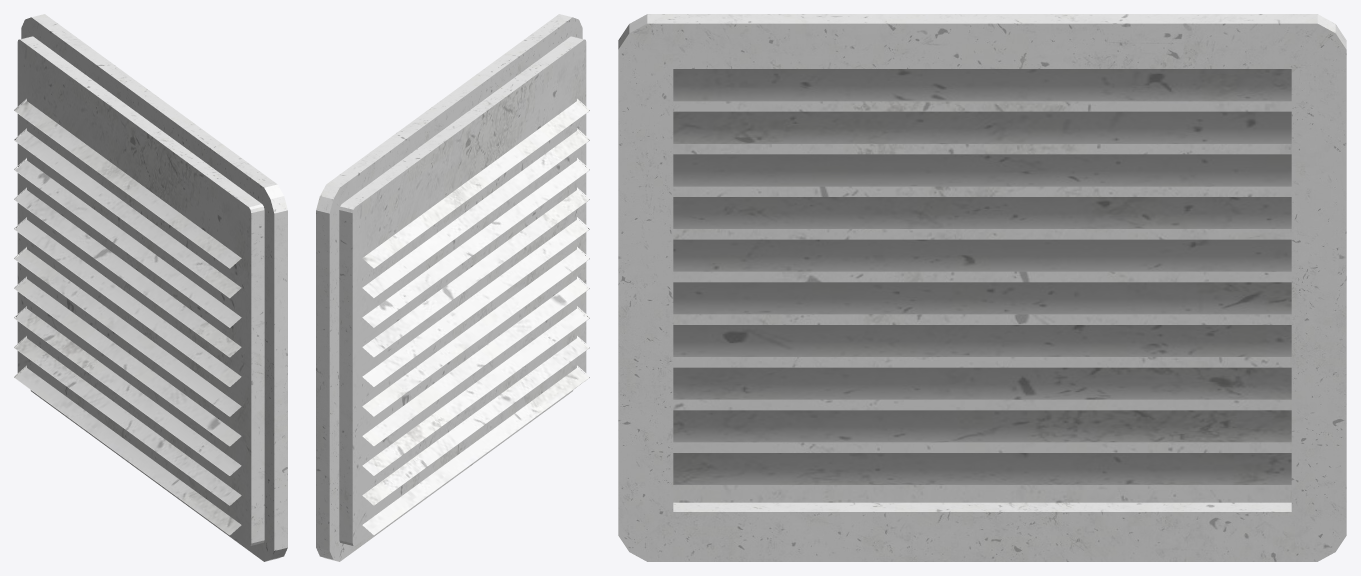
Rendered from SM_AC_Unit_Cover.glb.
3 renders of one model, left to right at view 1: azimuth 30°, elevation 25°; view 2: azimuth 150°, elevation 25°; view 3: azimuth 270°, elevation 25°, orthographic. The views are drawn at different scales.
Visible parts, largest first — view 1: SM_AC_Unit_Cover; view 2: SM_AC_Unit_Cover; view 3: SM_AC_Unit_Cover.
Part boxes in pixels (x1,y1,x2,y2): SM_AC_Unit_Cover: [14, 14, 287, 561]; SM_AC_Unit_Cover: [316, 14, 589, 561]; SM_AC_Unit_Cover: [618, 14, 1346, 561].
Size of the model in its own units: 0.0652 by 0.4419 by 0.5419.
1 material, 1 textured.
